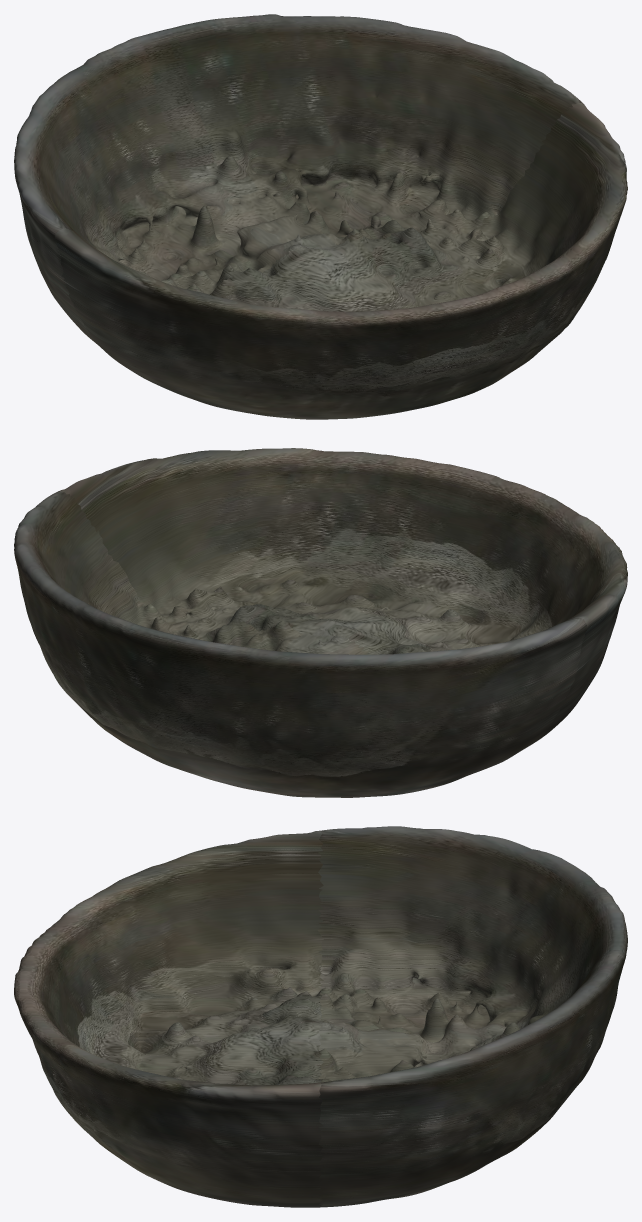
File: kfl-2254.glb
The picture shows the model from 3 angles, top to bottom: view 1: azimuth 30°, elevation 25°; view 2: azimuth 150°, elevation 25°; view 3: azimuth 270°, elevation 25°; orthographic projection.
Parts seen in each view (by area): view 1: geometry_0; view 2: geometry_0; view 3: geometry_0.
Boxes of the visible parts, box(x1,y1,x2,y2) form: geometry_0: box(14, 14, 627, 419); geometry_0: box(14, 448, 627, 797); geometry_0: box(14, 826, 627, 1207).
Size of the model in its own units: 0.9892 by 0.4093 by 0.9883.
1 material, 1 textured.
